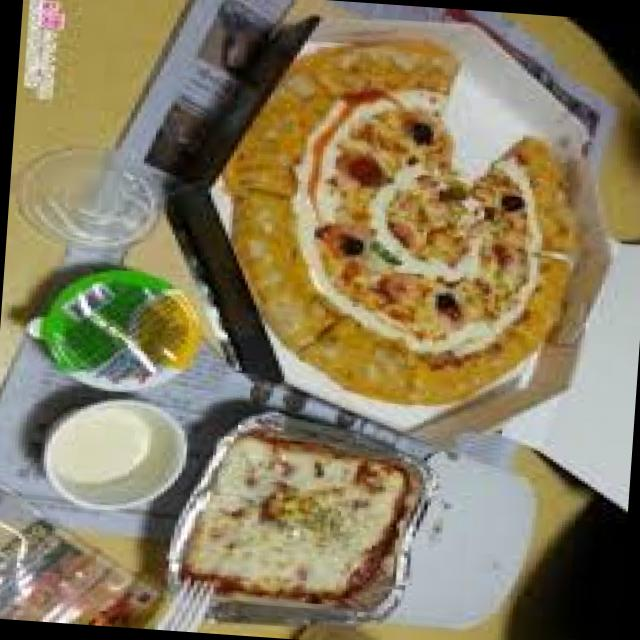aluminum foil: (147, 389, 447, 629)
paper: (150, 2, 640, 519)
plastic-bowl: (27, 396, 198, 520), (18, 144, 163, 255)
